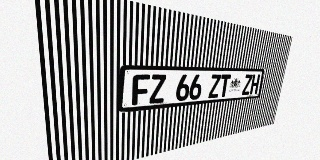6: (175, 74, 191, 101), (189, 74, 203, 100)
F: (132, 74, 150, 105)
H: (249, 74, 260, 94)
T: (218, 74, 231, 97)
Z: (149, 74, 166, 104), (208, 74, 221, 98), (242, 74, 253, 95)
